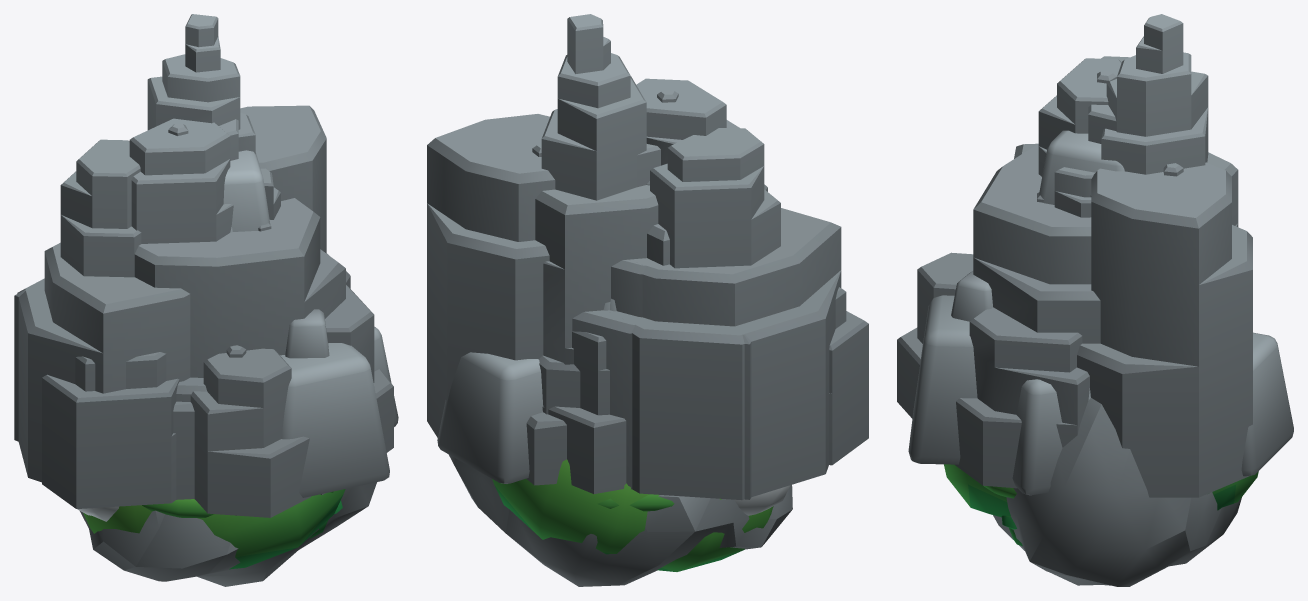
The model's file is kaykit.glb.
3 views of the same model, side by side, from view 1: azimuth 30°, elevation 25°; view 2: azimuth 150°, elevation 25°; view 3: azimuth 270°, elevation 25° (orthographic). The views are drawn at different scales.
Visible parts, largest first — view 1: Rock_1_J, Rock_1_K, Rock_1_M, Rock_2_E, Rock_3_M, Rock_1_N, Tuft_Round, Rock_2_G, Tuft_Disc; view 2: Rock_1_J, Rock_1_M, Rock_1_N, Rock_3_M, Rock_1_K, Rock_2_G, Tuft_Round, cloud_big, Tuft_Disc; view 3: Rock_1_M, Rock_1_K, Rock_3_M, Rock_1_N, Rock_2_G, Rock_2_E, Rock_1_J, Tuft_Round.
Part boxes in pixels (bbox=[...]): Rock_1_J: bbox=[17, 139, 310, 517]; Rock_1_K: bbox=[129, 118, 393, 452]; Rock_1_M: bbox=[14, 105, 350, 508]; Rock_2_E: bbox=[230, 227, 389, 497]; Rock_3_M: bbox=[80, 482, 376, 586]; Rock_1_N: bbox=[147, 14, 255, 154]; Tuft_Round: bbox=[83, 489, 345, 569]; Rock_2_G: bbox=[223, 150, 398, 494]; Tuft_Disc: bbox=[142, 491, 333, 517]; Rock_1_J: bbox=[526, 128, 841, 500]; Rock_1_M: bbox=[427, 114, 868, 499]; Rock_1_N: bbox=[535, 14, 658, 364]; Rock_3_M: bbox=[448, 454, 792, 586]; Rock_1_K: bbox=[542, 78, 767, 493]; Rock_2_G: bbox=[437, 298, 616, 483]; Tuft_Round: bbox=[492, 459, 773, 571]; cloud_big: bbox=[734, 485, 790, 515]; Tuft_Disc: bbox=[506, 483, 674, 511]; Rock_1_M: bbox=[1077, 104, 1252, 497]; Rock_1_K: bbox=[955, 58, 1121, 488]; Rock_3_M: bbox=[993, 398, 1241, 586]; Rock_1_N: bbox=[1090, 14, 1238, 226]; Rock_2_G: bbox=[1012, 130, 1293, 495]; Rock_2_E: bbox=[908, 271, 992, 464]; Rock_1_J: bbox=[897, 56, 1129, 418]; Tuft_Round: bbox=[944, 464, 1258, 517].
Size of the model in its own units: 4.16 by 6.13 by 3.95.
1 material, 1 textured.
